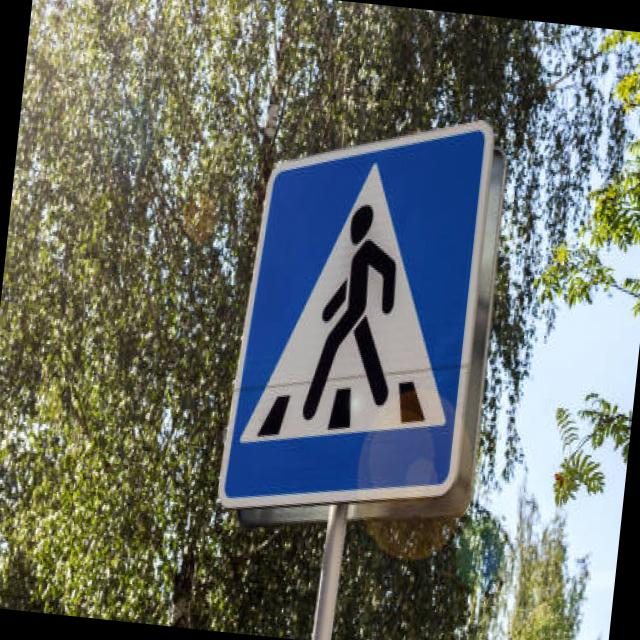crosswalk: (203, 84, 506, 542)
